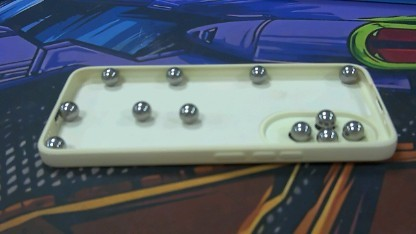ironball: (127, 95, 154, 121), (175, 99, 200, 126), (160, 63, 185, 87), (340, 118, 365, 142), (337, 59, 358, 87), (245, 63, 269, 85), (56, 95, 76, 120), (41, 132, 65, 151), (314, 124, 337, 143), (289, 119, 307, 143), (101, 65, 120, 85), (314, 106, 335, 123)
